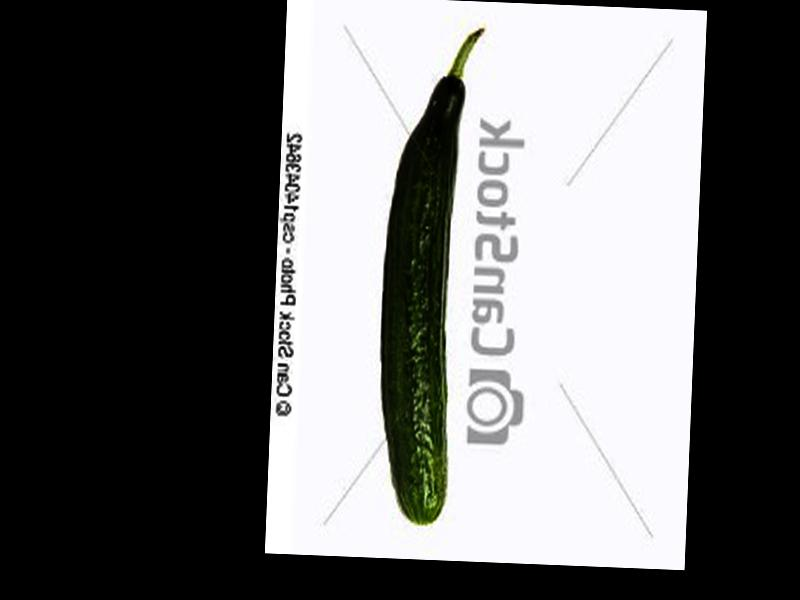Cucumber: (373, 22, 482, 523)
